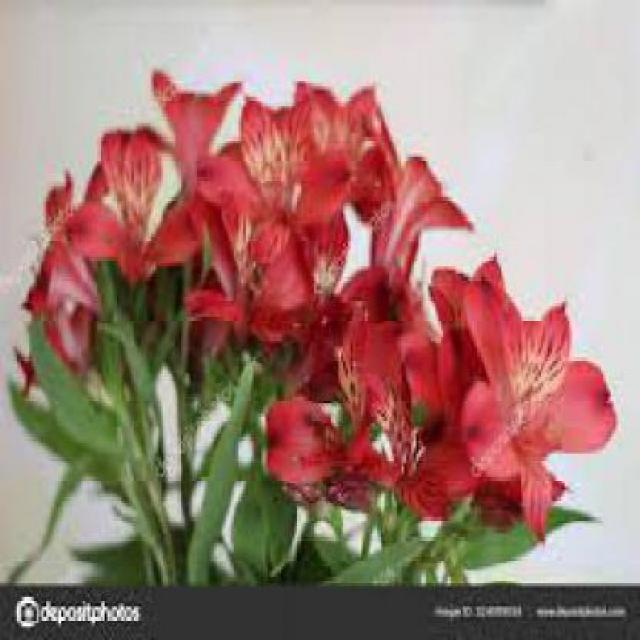Flower: (462, 279, 618, 547), (202, 99, 358, 287), (151, 73, 243, 187)
